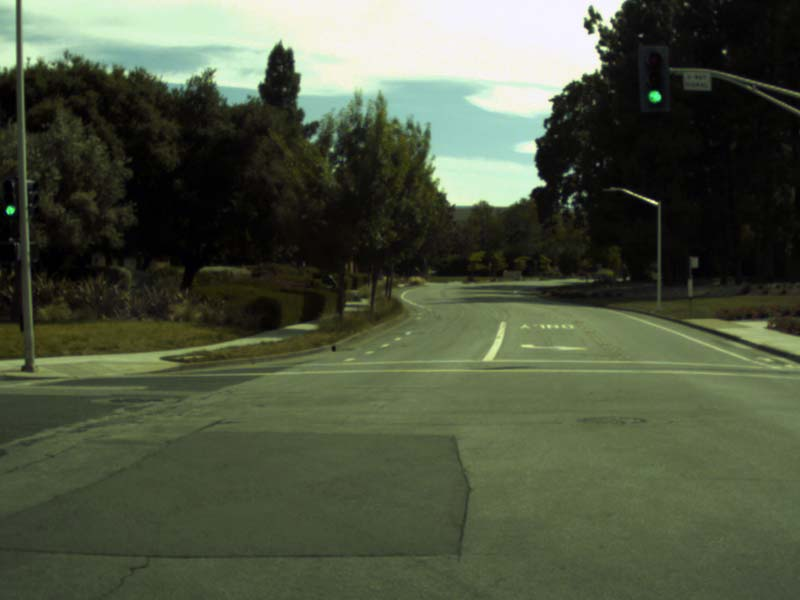Green: (641, 47, 667, 111), (3, 179, 15, 216)
